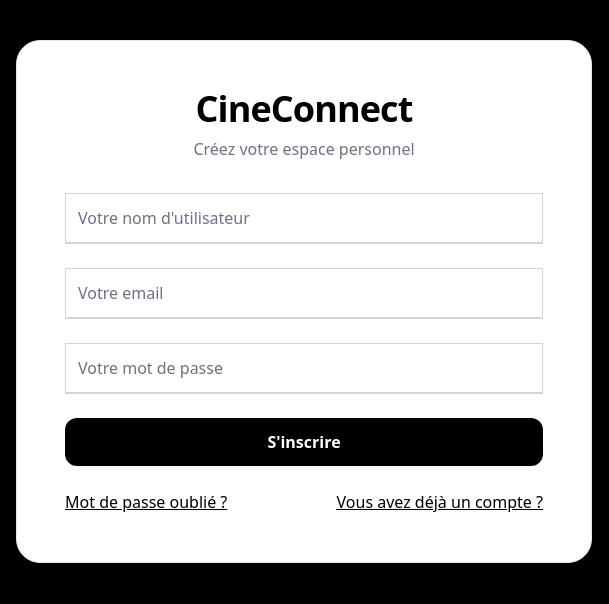
Test: Signup › devrait afficher un message d'erreur si inscription échoue
Type "john" into the field with placeholder "Votre nom d'utilisateur".
click(304, 218); type("john")  # box [65,192,543,244]
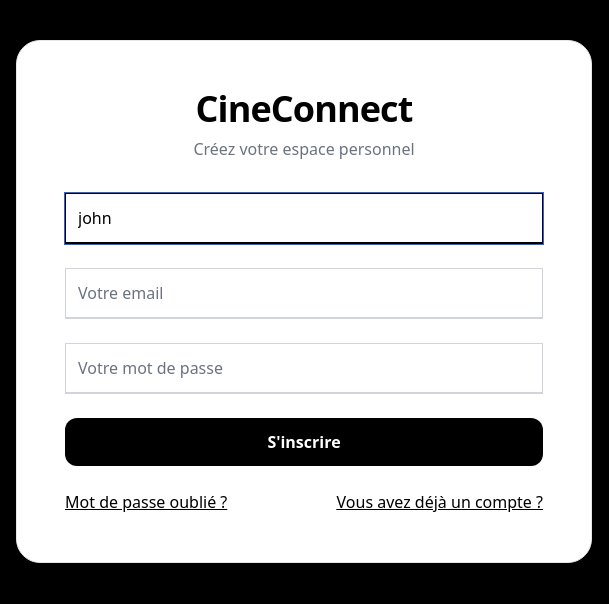
Type "john@test.com" into the field with placeholder "Votre email".
click(304, 293); type("john@test.com")  # box [65,268,543,318]
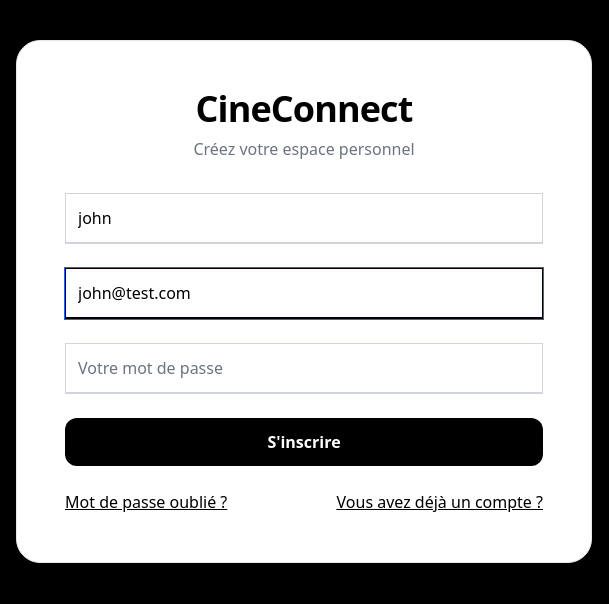
Type "secret123" into the password field with placeholder "Votre mot de passe".
click(304, 368); type("secret123")  # box [65,342,543,394]
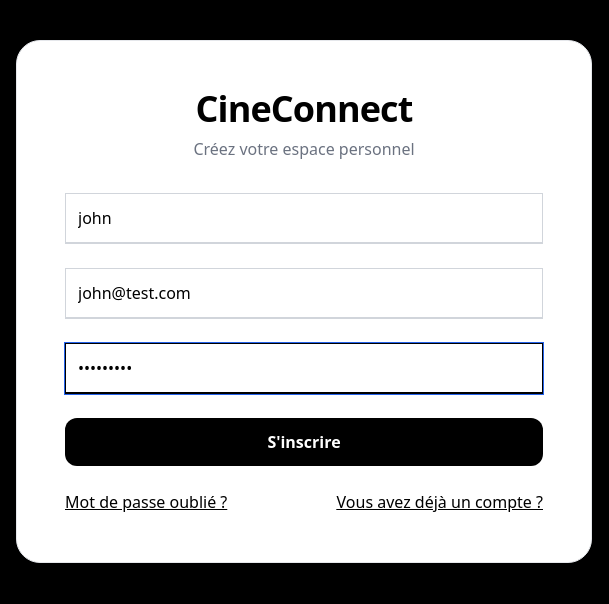
Click the button "S'inscrire".
click(304, 442)  # box [65,418,543,466]
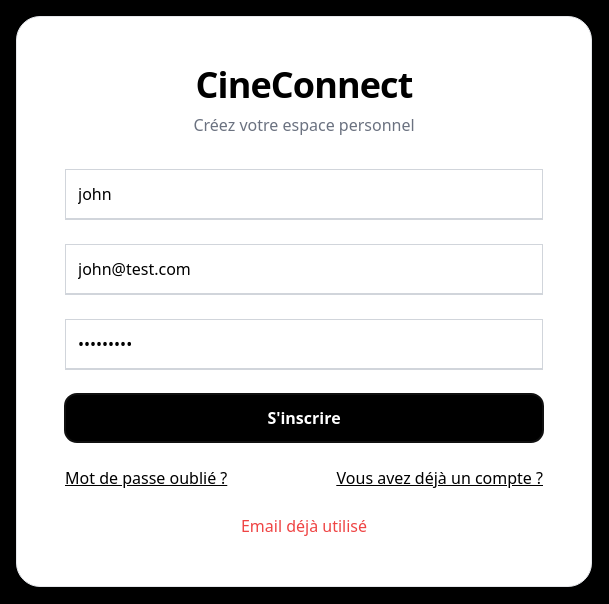
Expected: the text "Email déjà utilisé" is shown, [241,514,367,536]
